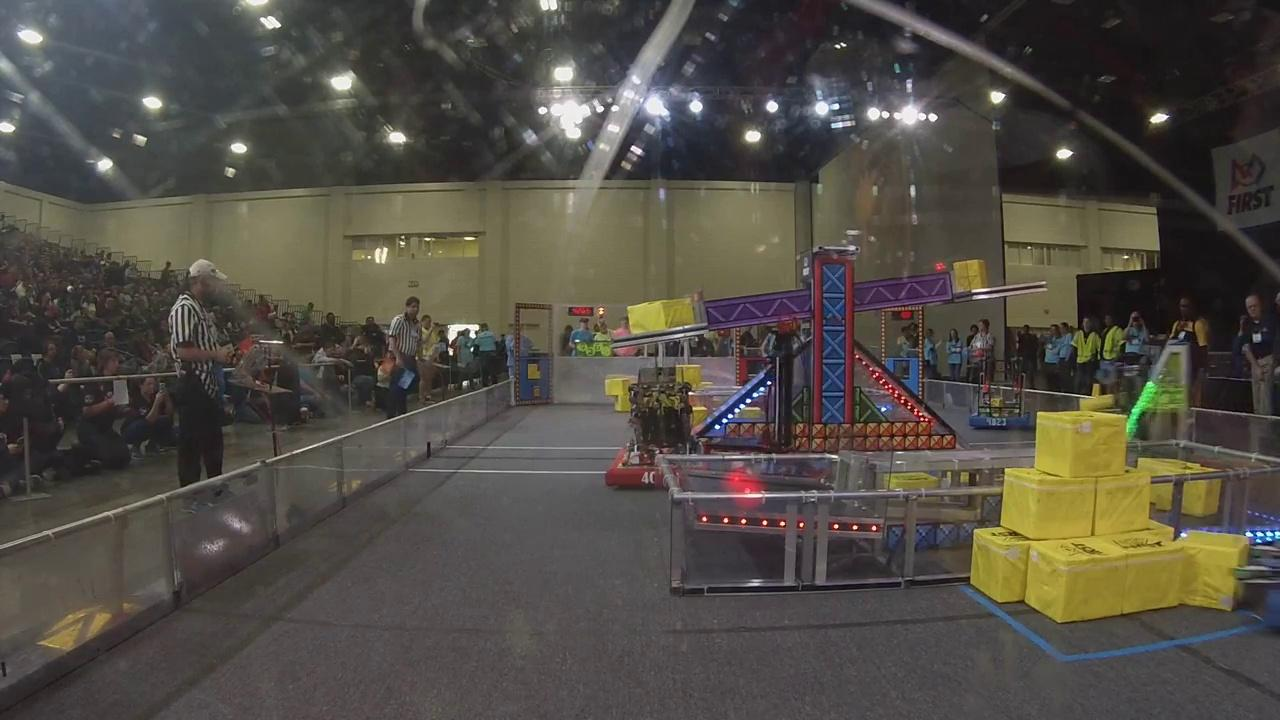robot: (606, 363, 713, 492), (964, 358, 1037, 431)
